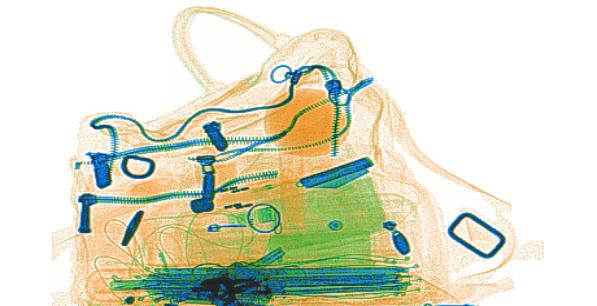USBFlashDisk: (220, 204, 277, 233)
knife: (294, 155, 374, 190)
